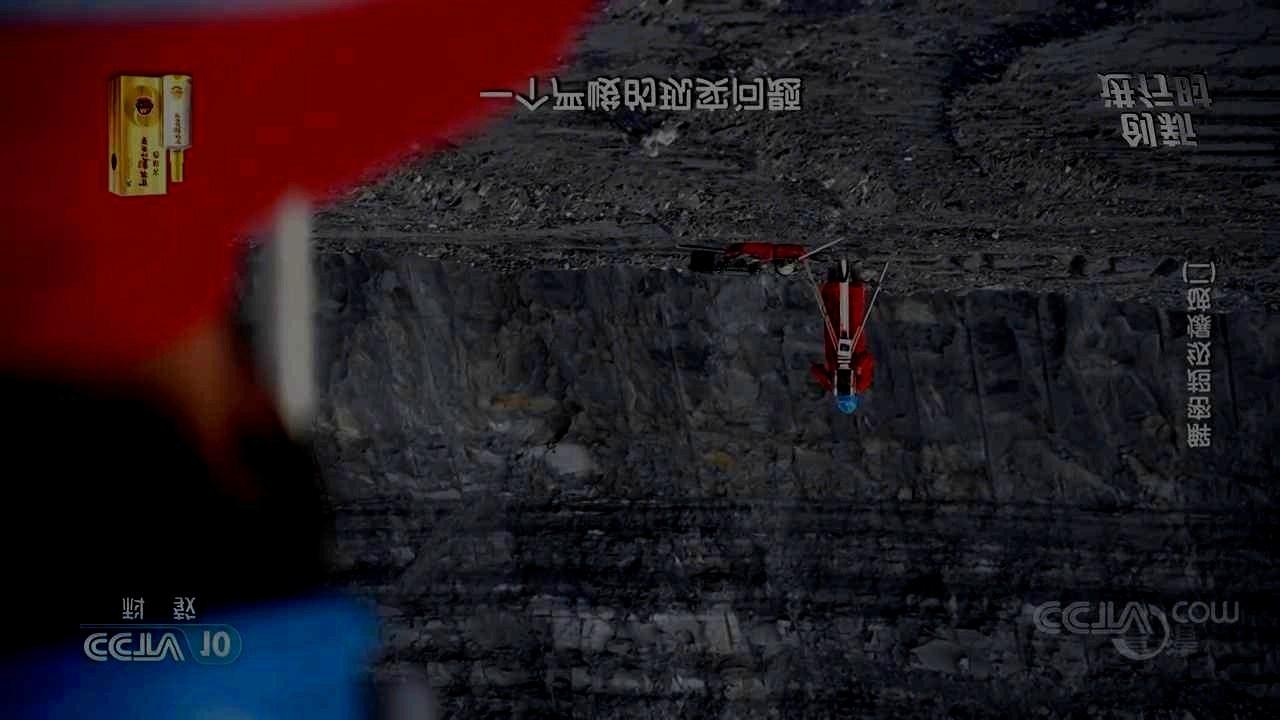helmet: (3, 302, 386, 720), (834, 382, 861, 414)
